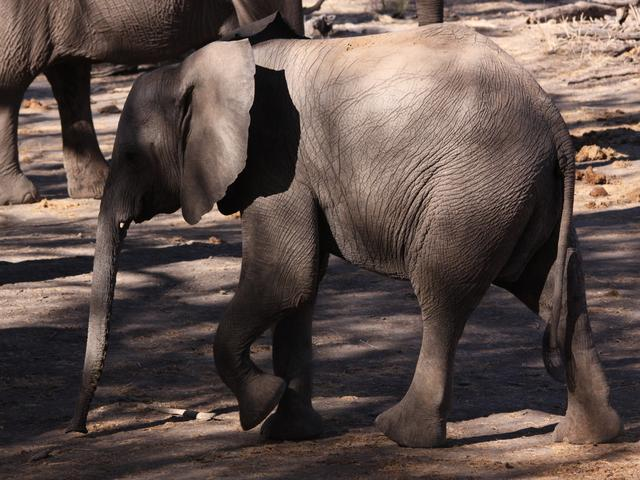elephant: (59, 32, 598, 422)
